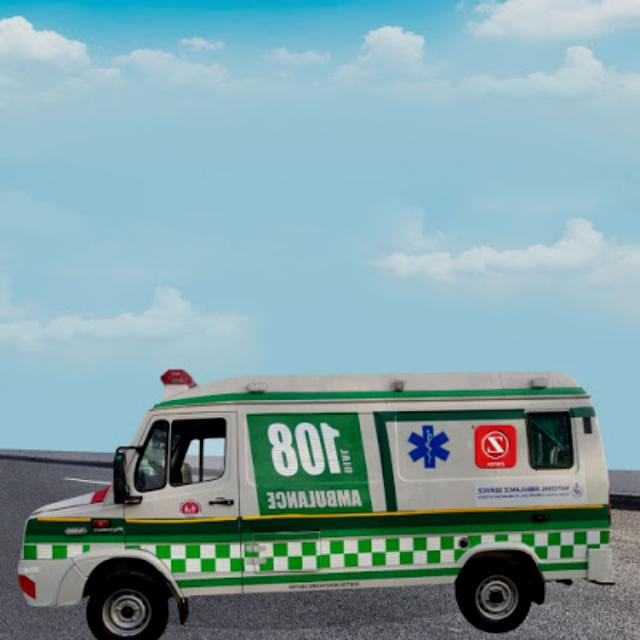ambulance: (8, 352, 622, 640)
